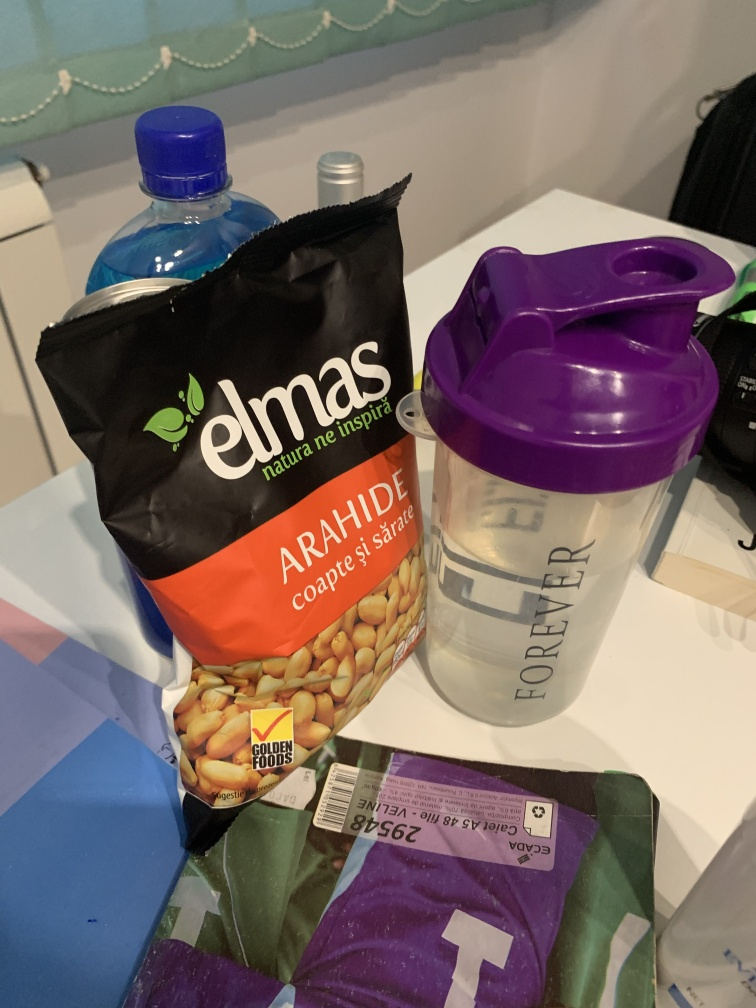peanuts: (54, 181, 438, 853)
